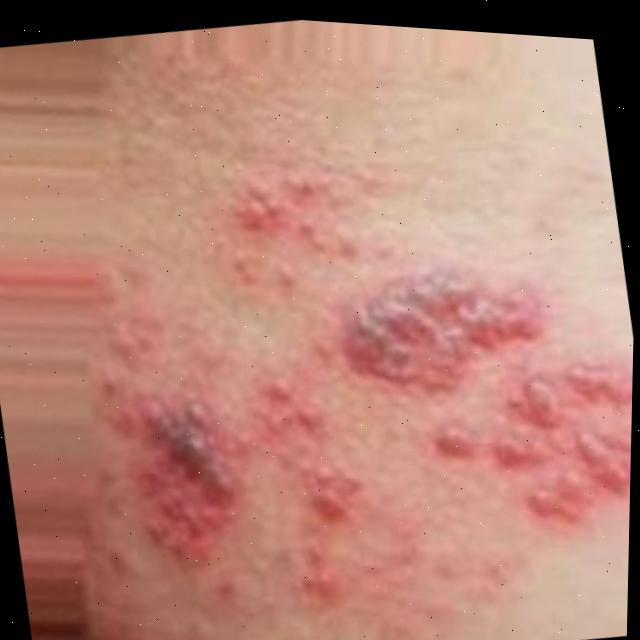Shingles: (68, 106, 638, 630)
